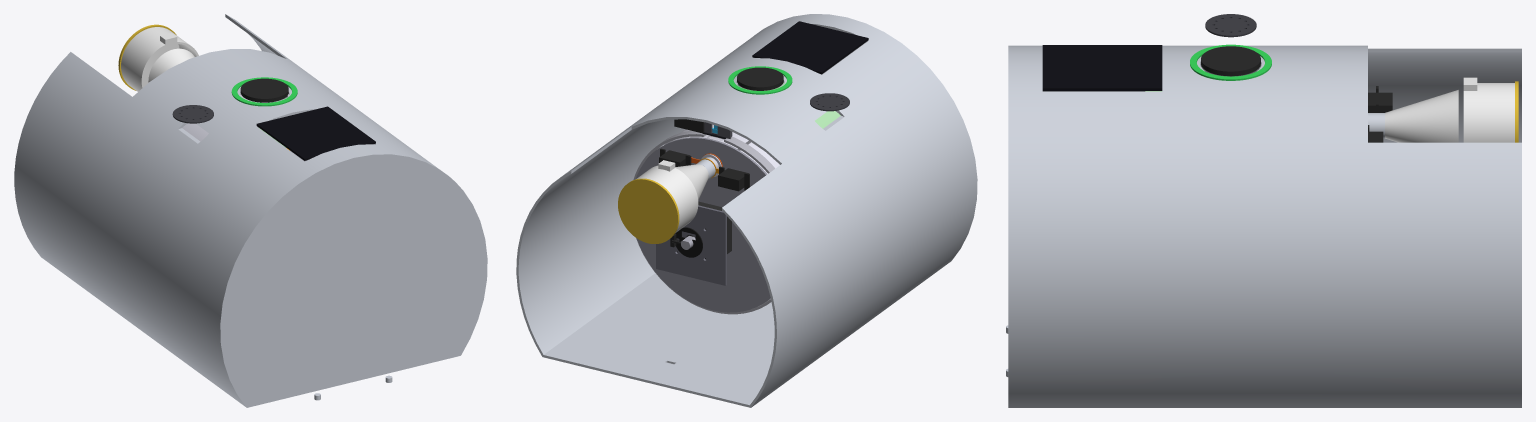
Rendered from hero_full_assembly.fbx.
The picture shows the model from 3 angles, left to right: view 1: azimuth 30°, elevation 25°; view 2: azimuth 150°, elevation 25°; view 3: azimuth 270°, elevation 25°; orthographic projection. The views are drawn at different scales.
Visible parts, largest first — view 1: Body1 (×8); view 2: Body1 (×14); view 3: Body1 (×9).
Part boxes in pixels (left/top/right/bottom): Body1 (×8): left=14, top=14, right=487, bottom=407; Body1 (×14): left=516, top=14, right=977, bottom=407; Body1 (×9): left=1008, top=14, right=1521, bottom=407.
Size of the model in its own units: 11.24 by 9.51 by 15.07.
